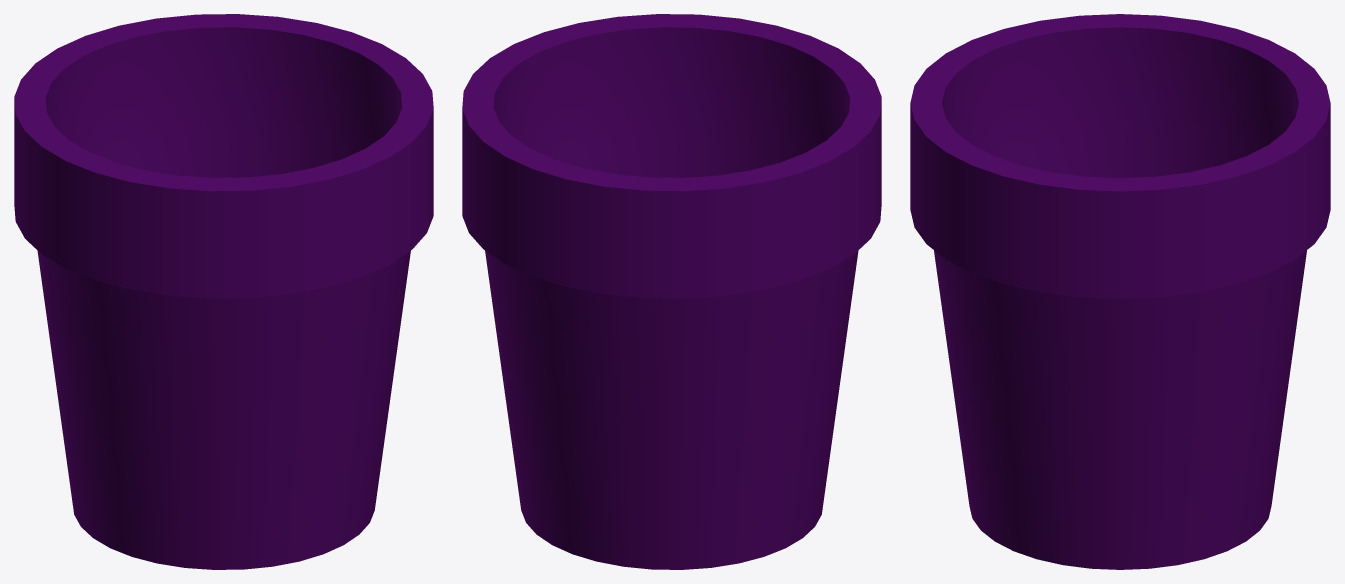
Rendered from GrandPot_6.fbx.
3 views of the same model, side by side, from view 1: azimuth 30°, elevation 25°; view 2: azimuth 150°, elevation 25°; view 3: azimuth 270°, elevation 25° (orthographic).
Parts seen in each view (by area): view 1: pCylinder1799; view 2: pCylinder1799; view 3: pCylinder1799.
Part boxes in pixels (x1,y1,x2,y2): pCylinder1799: (14,14,433,569); pCylinder1799: (462,14,881,569); pCylinder1799: (910,14,1330,569).
Size of the model in its own units: 11.21 by 11.87 by 11.21.
